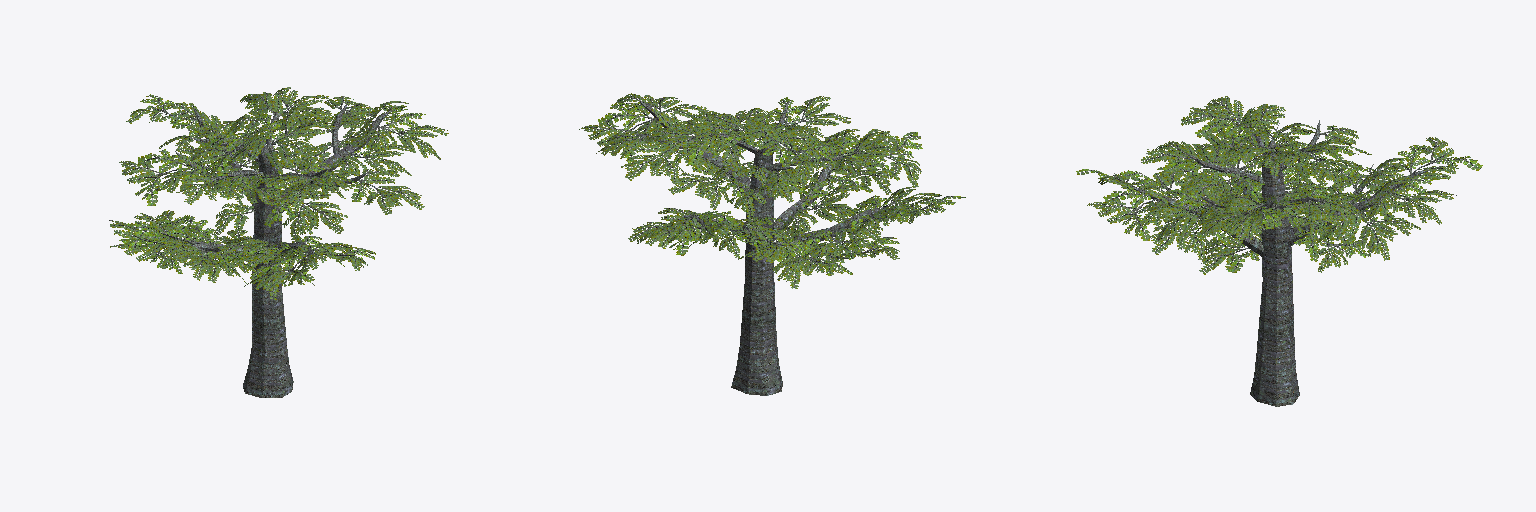
The picture shows the model from 3 angles: view 1: azimuth 30°, elevation 25°; view 2: azimuth 150°, elevation 25°; view 3: azimuth 270°, elevation 25°; orthographic projection.
Visible parts, largest first — view 1: polySurface1588; view 2: polySurface1588; view 3: polySurface1588.
Part boxes in pixels (x1,y1,x2,y2): polySurface1588: (109, 87, 448, 397); polySurface1588: (579, 93, 965, 395); polySurface1588: (1076, 96, 1482, 406).
Size of the model in its own units: 211 by 155 by 217.
Materials: 1 (1 with a texture image).